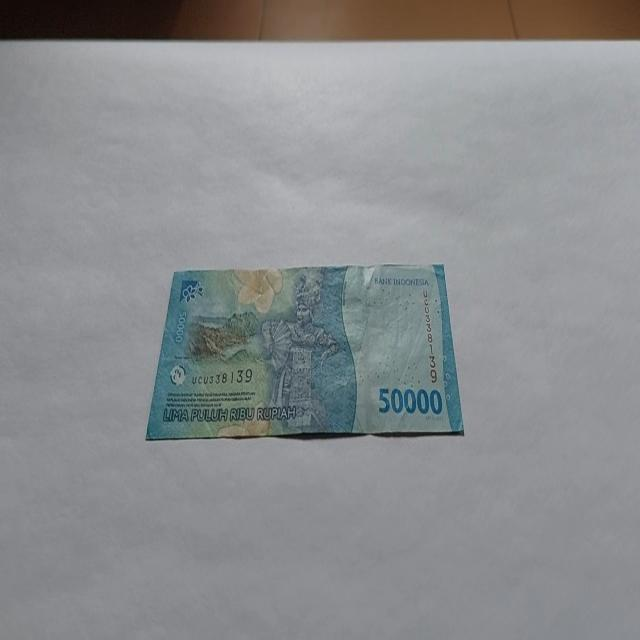lima puluh ribu rupiah: (144, 261, 464, 443)
